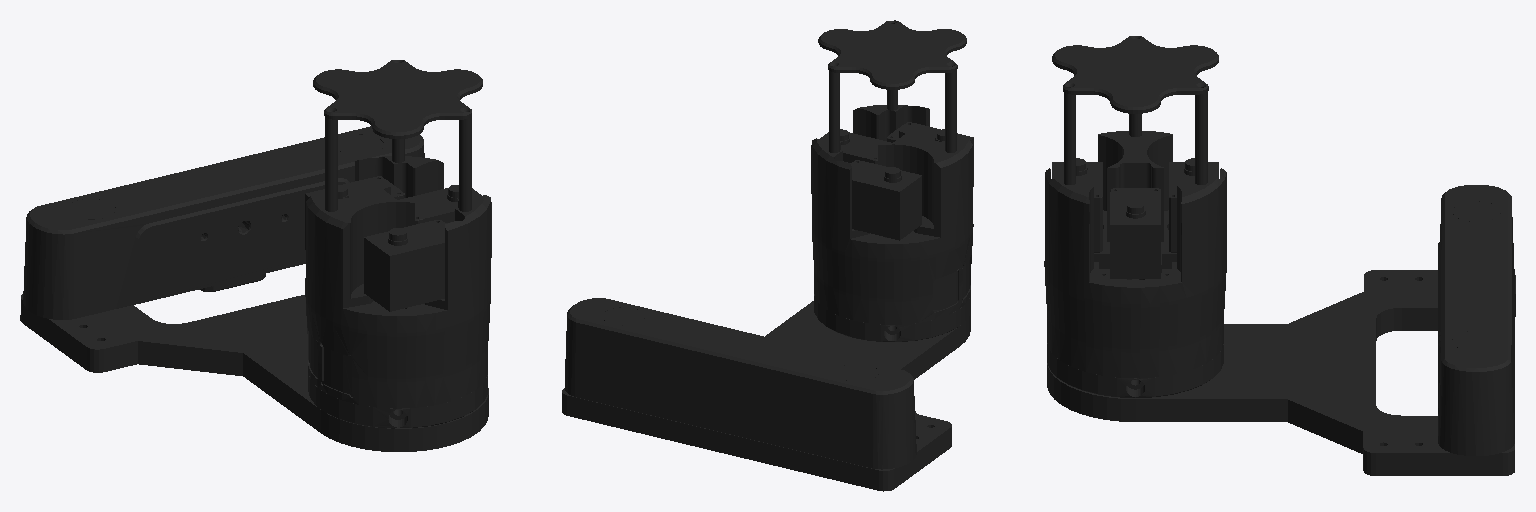
robot.urdf — delto_gripper_3f:
<?xml version="1.0" ?>

<!--
    delto_gripper_3f.sdf
    Licensed under the BSD-3-Clause
    Copyright (c) 2025 Tesollo Inc.
    See LICENSE file for details.
  Reference:
  * https://tesollo.com/dg-3f/
-->

<robot name="delto_gripper_3f">

   <material name="silver">
      <color rgba="0.700 0.700 0.700 1.000"/>
   </material>

   <material name="black">
      <color rgba="0.196 0.196 0.196 1.0"/>
   </material>

   <material name="white">
      <color rgba="1.0 1.0 1.0 1.0"/>
   </material>

   <link name="delto_base_link">

      <inertial>
         <origin xyz="0.00045499721796859983 -2.051648304165415e-06 -0.05218562175888181" rpy="5.671320207730568e-06 0.0032948722942074404 -0.00044870150924543735"/>
         <mass value="0.370"/>
         <inertia ixx="0.0009935903471030175" iyy="0.000980251548061173" izz="0.0003178199035240808" ixy="0" ixz="0" iyz="0"/>
      </inertial>

      <visual>
         <origin xyz="0.00045499721796859983 -2.051648304165415e-06 -0.05218562175888181" rpy="5.671320207730568e-06 0.0032948722942074404 -0.00044870150924543735"/>
         <geometry>
            <mesh filename="package://delto_description/meshes/DG3F/base_link_zed2i_mounted_top_position.stl"/>
         </geometry>
         <material name="black"/>
      </visual>

      <collision>
         <origin xyz="0.00045499721796859983 -2.051648304165415e-06 -0.05218562175888181" rpy="5.671320207730568e-06 0.0032948722942074404 -0.00044870150924543735"/>
         <geometry>
            <mesh filename="package://delto_description/meshes/DG3F/base_link_zed2i_mounted_top_position.stl"/>
         </geometry>
      </collision>

   </link>


   <link name="F1_01">

      <inertial>
         <origin xyz="0.0003906 3.121e-08 -0.014" rpy= "-0.17662368646091148 -1.9303231388878572e-06 1.5707855116626381"/>
         <mass value="0.061"/>
         <inertia ixx="1.924000000025899e-05" iyy="1.709411627342488e-05" izz="5.9478837263161295e-06" ixy="0" ixz="0" iyz="0"/>
      </inertial>

      <visual>
         <origin xyz="0.0018977016221143523 -1.0017682763976983e-06 -0.022983822146236326" rpy="-0.1443920950720977 1.9855029389503898e-05 1.5709191233325221"/>
         <geometry>
            <mesh filename="package://delto_description/meshes/DG3F/link_01.stl"/>
         </geometry>
         <material name="black"/>
      </visual>
      
      <collision>
         <origin xyz="0.0018977016221143523 -1.0017682763976983e-06 -0.022983822146236326" rpy="-0.1443920950720977 1.9855029389503898e-05 1.5709191233325221"/>
         <geometry>
            <mesh filename="package://delto_description/meshes/DG3F/link_01.stl"/>
         </geometry>
      </collision> 

   </link>

   <link name="F1_02">

      <inertial>
         <origin xyz="0.01 3.444e-06 0.016" rpy="-0.0036890516412144943 0.31688564121750695 -0.0027736178951144786"/>
         <mass value="0.025"/>
         <inertia ixx="7.164797732610912e-06" iyy="6.31301833122199e-06" izz="3.274183936167101e-06" ixy="0" ixz="0" iyz="0"/>
      </inertial>

      <visual>
         <origin xyz="0.010322007813576017 0.000267674195662055 0.013590600703218703" rpy="-0.03118104794815292 0.3757385725887219 -0.024334342208719002"/>
         <geometry>
            <mesh filename="package://delto_description/meshes/DG3F/link_02.stl"/>
         </geometry>
         <material name="black"/>
      </visual>

      <collision>
         <origin xyz="0.010322007813576017 0.000267674195662055 0.013590600703218703" rpy="-0.03118104794815292 0.3757385725887219 -0.024334342208719002"/>
         <geometry>
            <mesh filename="package://delto_description/meshes/DG3F/link_02.stl"/>
         </geometry>
      </collision>
   </link>

   <link name="F1_03">

      <inertial>
         <origin xyz="0.014 -0.0004527 -3.953e-05" rpy="1.5651066808062148 -0.0008576993469346927 1.5562600280492769"/>
         <mass value="0.051"/>
         <inertia ixx="1.6912201686125405e-05" iyy="1.4940271596370447e-05" izz="6.505526717504149e-06" ixy="0" ixz="0" iyz="0"/>
      </inertial>

      <visual>
         <origin xyz="0.019034639558839914 -0.0007611783816217545 0.00015734818842133856" rpy="1.5405533073968862 -0.0023628127138719535 1.5994547590929262"/>
         <geometry>
            <mesh filename="package://delto_description/meshes/DG3F/link_03.stl"/>
         </geometry>
         <material name="black"/>
      </visual>

      <collision>
         <origin xyz="0.019034639558839914 -0.0007611783816217545 0.00015734818842133856" rpy="1.5405533073968862 -0.0023628127138719535 1.5994547590929262"/>
         <geometry>
            <mesh filename="package://delto_description/meshes/DG3F/link_03.stl"/>
         </geometry>
      </collision>

   </link>

   <link name="F1_04">
      <inertial>
         <origin xyz="0.012 -0.0002269 -4.676e-05" rpy="1.5668480451228681 -0.0008686188531681349 1.5829731507939977"/>
         <mass value="0.058"/>
         <inertia ixx="1.0860820276783573e-05" iyy="9.902070548178027e-06" izz="5.330109175038405e-06" ixy="0" ixz="0" iyz="0"/>
      </inertial>

      <visual>
         <origin xyz="0.011992289866897352 -0.0007726988011287212 -5.201111709052532e-06" rpy="1.5745317514920234 0.003601150001683928 1.6650413701206925"/>
         <geometry>
            <mesh filename="package://delto_description/meshes/DG3F/link_04.stl"/>
         </geometry>
         <material name="black"/>
      </visual>

      <collision>
         <origin xyz="0.011992289866897352 -0.0007726988011287212 -5.201111709052532e-06" rpy="1.5745317514920234 0.003601150001683928 1.6650413701206925"/>
         <geometry>
            <mesh filename="package://delto_description/meshes/DG3F/link_04.stl"/>
         </geometry>
      </collision>

   </link>

   <link name="F1_TIP">
      <inertial>
         <origin xyz="0.045 -0.000436 -7.22e-08" rpy="1.5708008179564292 -3.695361794919805e-05 1.5210948927815267"/>
         <mass value="0.013"/>
         <inertia ixx="1.5965708653714455e-06" iyy="1.2999999996018677e-06" izz="9.60129135026688e-07" ixy="0" ixz="0" iyz="0"/>
      </inertial>

      <visual>
         <origin xyz="0.044959448417087294 -0.0004226309811080281 2.3018946871860735e-07" rpy="1.5708745579876908 -1.019986385419891e-05 1.5204133624130758"/>
         <geometry>
            <mesh filename="package://delto_description/meshes/DG3F/link_tip_high.stl"/>
         </geometry>
         <material name="white"/>
      </visual>

      <collision>
         <origin xyz="0.044959448417087294 -0.0004226309811080281 2.3018946871860735e-07" rpy="1.5708745579876908 -1.019986385419891e-05 1.5204133624130758"/>
         <geometry>
            <mesh filename="package://delto_description/meshes/DG3F/link_tip_high.stl"/>
         </geometry>
      </collision>
   </link>

   <link name="F2_01">
      <inertial>
         <origin xyz="0.0003906 3.121e-08 -0.014" rpy="-0.17662368646091148 -1.9303231388878572e-06 1.5707855116626381"/>
         <mass value="0.061"/>
         <inertia ixx="1.924000000025899e-05" iyy="1.709411627342488e-05" izz="5.9478837263161295e-06" ixy="0" ixz="0" iyz="0"/>
      </inertial>

      <visual>
         <origin xyz="0.0018977016221143523 -1.0017682763976983e-06 -0.022983822146236326" rpy="-0.1443920950720977 1.9855029389503898e-05 1.5709191233325221"/>
         <geometry>
            <mesh filename="package://delto_description/meshes/DG3F/link_01.stl"/>
         </geometry>
         <material name="black"/>
      </visual>

      <collision>
         <origin xyz="0.0018977016221143523 -1.0017682763976983e-06 -0.022983822146236326" rpy="-0.1443920950720977 1.9855029389503898e-05 1.5709191233325221"/>
         <geometry>
            <mesh filename="package://delto_description/meshes/DG3F/link_01.stl"/>
         </geometry>
      </collision>

   </link>

   <link name="F2_02">
      <inertial>
         <origin xyz="0.01 3.444e-06 0.016" rpy="-0.0036890516412144943 0.31688564121750695 -0.0027736178951144786"/>
         <mass value="0.025"/>
         <inertia ixx="7.164797732610912e-06" iyy="6.31301833122199e-06" izz="3.274183936167101e-06" ixy="0" ixz="0" iyz="0"/>
      </inertial>

      <visual>
         <origin xyz="0.010322007813576017 0.000267674195662055 0.013590600703218703" rpy="-0.03118104794815292 0.3757385725887219 -0.024334342208719002"/>
         <geometry>
            <mesh filename="package://delto_description/meshes/DG3F/link_02.stl"/>
         </geometry>
         <material name="black"/>
      </visual>

      <collision>
         <origin xyz="0.010322007813576017 0.000267674195662055 0.013590600703218703" rpy="-0.03118104794815292 0.3757385725887219 -0.024334342208719002"/>
         <geometry>
            <mesh filename="package://delto_description/meshes/DG3F/link_02.stl"/>
         </geometry>
      </collision>

   </link>

   <link name="F2_03">
   
      <inertial>
         <origin xyz="0.014 -0.0004527 -3.953e-05" rpy="1.5651066808062148 -0.0008576993469346927 1.5562600280492769"/>
         <mass value="0.051"/>
         <inertia ixx="1.6912201686125405e-05" iyy="1.4940271596370447e-05" izz="6.505526717504149e-06" ixy="0" ixz="0" iyz="0"/>
      </inertial>

      <visual>
         <origin xyz="0.019034639558839914 -0.0007611783816217545 0.00015734818842133856" rpy="1.5405533073968862 -0.0023628127138719535 1.5994547590929262"/>
         <geometry>
            <mesh filename="package://delto_description/meshes/DG3F/link_03.stl"/>
         </geometry>
         <material name="black"/>
      </visual>


      <collision>
         <origin xyz="0.019034639558839914 -0.0007611783816217545 0.00015734818842133856" rpy="1.5405533073968862 -0.0023628127138719535 1.5994547590929262"/>
         <geometry>
            <mesh filename="package://delto_description/meshes/DG3F/link_03.stl"/>
         </geometry>
      </collision>

   </link>

   <link name="F2_04">
      <inertial>
         <origin xyz="0.012 -0.0002269 -4.676e-05" rpy="1.5668480451228681 -0.0008686188531681349 1.5829731507939977"/>
         <mass value="0.058"/>
         <inertia ixx="1.0860820276783573e-05" iyy="9.902070548178027e-06" izz="5.330109175038405e-06" ixy="0" ixz="0" iyz="0"/>
      </inertial>

      <visual>
         <origin xyz="0.011992289866897352 -0.0007726988011287212 -5.201111709052532e-06" rpy="1.5745317514920234 0.003601150001683928 1.6650413701206925"/>
         <geometry>
            <mesh filename="package://delto_description/meshes/DG3F/link_04.stl"/>
         </geometry>
         <material name="black"/>
      </visual>

      <collision>
         <origin xyz="0.011992289866897352 -0.0007726988011287212 -5.201111709052532e-06" rpy="1.5745317514920234 0.003601150001683928 1.6650413701206925"/>
         <geometry>
            <mesh filename="package://delto_description/meshes/DG3F/link_04.stl"/>
         </geometry>
      </collision>
   </link>


   <link name="F2_TIP">
      <inertial>
         <origin xyz="0.045 -0.000436 -7.22e-08" rpy="1.5708008179564292 -3.695361794919805e-05 1.5210948927815267"/>
         <mass value="0.013"/>
         <inertia ixx="1.5965708653714455e-06" iyy="1.2999999996018677e-06" izz="9.60129135026688e-07" ixy="0" ixz="0" iyz="0"/>
      </inertial>

      <visual>
         <origin xyz="0.044959448417087294 -0.0004226309811080281 2.3018946871860735e-07" rpy="1.5708745579876908 -1.019986385419891e-05 1.5204133624130758"/>
         <geometry>
            <mesh filename="package://delto_description/meshes/DG3F/link_tip_high.stl"/>
         </geometry>
         <material name="white"/>
      </visual>

      <collision>
      <origin xyz="0.044959448417087294 -0.0004226309811080281 2.3018946871860735e-07" rpy="1.5708745579876908 -1.019986385419891e-05 1.5204133624130758"/>
         <geometry>
            <mesh filename="package://delto_description/meshes/DG3F/link_tip_high.stl"/>
         </geometry>
      </collision>
   </link>

   <link name="F3_01">
      <inertial>
         <origin xyz="0.0003906 3.121e-08 -0.014" rpy="-0.17662368646091148 -1.9303231388878572e-06 1.5707855116626381"/>
         <mass value="0.061"/>
         <inertia ixx="1.924000000025899e-05" iyy="1.709411627342488e-05" izz="5.9478837263161295e-06" ixy="0" ixz="0" iyz="0"/>
      </inertial>

      <visual>
         <origin xyz="0.0018977016221143523 -1.0017682763976983e-06 -0.022983822146236326" rpy="-0.1443920950720977 1.9855029389503898e-05 1.5709191233325221"/>
         <geometry>
            <mesh filename="package://delto_description/meshes/DG3F/link_01.stl"/>
         </geometry>
         <material name="black"/>
      </visual>

      <collision>
      <origin xyz="0.0018977016221143523 -1.0017682763976983e-06 -0.022983822146236326" rpy="-0.1443920950720977 1.9855029389503898e-05 1.5709191233325221"/>
         <geometry>
            <mesh filename="package://delto_description/meshes/DG3F/link_01.stl"/>
         </geometry>
      </collision>
   </link>
   
   <link name="F3_02">
      <inertial>
         <origin xyz="0.01 3.444e-06 0.016" rpy="-0.0036890516412144943 0.31688564121750695 -0.0027736178951144786"/>
         <mass value="0.025"/>
         <inertia ixx="7.164797732610912e-06" iyy="6.31301833122199e-06" izz="3.274183936167101e-06" ixy="0" ixz="0" iyz="0"/>
      </inertial>
      <visual>
         <origin xyz="0.010322007813576017 0.000267674195662055 0.013590600703218703" rpy="-0.03118104794815292 0.3757385725887219 -0.024334342208719002"/>
         <geometry>
            <mesh filename="package://delto_description/meshes/DG3F/link_02.stl"/>
         </geometry>
         <material name="black"/>
      </visual>

      <collision>
         <origin xyz="0.010322007813576017 0.000267674195662055 0.013590600703218703" rpy="-0.03118104794815292 0.3757385725887219 -0.024334342208719002"/>
         <geometry>
            <mesh filename="package://delto_description/meshes/DG3F/link_02.stl"/>
         </geometry>
      </collision>

   </link>

   <link name="F3_03">
      <inertial>
         <origin xyz="0.014 -0.0004527 -3.953e-05" rpy="1.5651066808062148 -0.0008576993469346927 1.5562600280492769"/>
         <mass value="0.051"/>
         <inertia ixx="1.6912201686125405e-05" iyy="1.4940271596370447e-05" izz="6.505526717504149e-06" ixy="0" ixz="0" iyz="0"/>
      </inertial>
      <visual>
         <origin xyz="0.019034639558839914 -0.0007611783816217545 0.00015734818842133856" rpy="1.5405533073968862 -0.0023628127138719535 1.5994547590929262"/>
         <geometry>
            <mesh filename="package://delto_description/meshes/DG3F/link_03.stl"/>
         </geometry>
         <material name="black"/>
      </visual>

      <collision>
         <origin xyz="0.019034639558839914 -0.0007611783816217545 0.00015734818842133856" rpy="1.5405533073968862 -0.0023628127138719535 1.5994547590929262"/>
         <geometry>
            <mesh filename="package://delto_description/meshes/DG3F/link_03.stl"/>
         </geometry>
      </collision>

   </link>

   <link name="F3_04">
      <inertial>
         <origin xyz="0.012 -0.0002269 -4.676e-05" rpy="1.5668480451228681 -0.0008686188531681349 1.5829731507939977"/>
         <mass value="0.058"/>
         <inertia ixx="1.0860820276783573e-05" iyy="9.902070548178027e-06" izz="5.330109175038405e-06" ixy="0" ixz="0" iyz="0"/>
      </inertial>
      <visual>
         <origin xyz="0.011992289866897352 -0.0007726988011287212 -5.201111709052532e-06" rpy="1.5745317514920234 0.003601150001683928 1.6650413701206925"/>
         <geometry>
            <mesh filename="package://delto_description/meshes/DG3F/link_04.stl"/>
         </geometry>
         <material name="black"/>
      </visual>

      <collision>
      <origin xyz="0.011992289866897352 -0.0007726988011287212 -5.201111709052532e-06" rpy="1.5745317514920234 0.003601150001683928 1.6650413701206925"/>
         <geometry>
            <mesh filename="package://delto_description/meshes/DG3F/link_04.stl"/>
         </geometry>
      </collision>

   </link>


   <link name="F3_TIP">
      <inertial>
         <origin xyz="0.045 -0.000436 -7.22e-08" rpy="1.5708008179564292 -3.695361794919805e-05 1.5210948927815267"/>
         <mass value="0.013"/>
         <inertia ixx="1.5965708653714455e-06" iyy="1.2999999996018677e-06" izz="9.60129135026688e-07" ixy="0" ixz="0" iyz="0"/>
      </inertial>
      <visual>
         <origin xyz="0.044959448417087294 -0.0004226309811080281 2.3018946871860735e-07" rpy="1.5708745579876908 -1.019986385419891e-05 1.5204133624130758"/>
         <geometry>
            <mesh filename="package://delto_description/meshes/DG3F/link_tip_high.stl"/>
         </geometry>
         <material name="white"/>
      </visual>

      <collision>
         <origin xyz="0.044959448417087294 -0.0004226309811080281 2.3018946871860735e-07" rpy="1.5708745579876908 -1.019986385419891e-05 1.5204133624130758"/>
         <geometry>
            <mesh filename="package://delto_description/meshes/DG3F/link_tip_high.stl"/>
         </geometry>
      </collision>

   </link>

   <!--Joint -->

   <joint name = "F1M1" type = "revolute">
      <origin xyz="0.0265 0.0 0.0" rpy="0 0 0"/>
      <parent link="delto_base_link"/>
      <child link="F1_01"/>
      <axis xyz="0.0 0.0 1.0"/>
      <limit effort="10.0" velocity="5.0" lower="-1.0472" upper="1.0472" />
      <dynamics damping="1.1" friction="1.1"/>
   </joint>

   <joint name = "F1M2" type = "revolute">
      <origin xyz="0.0 0.0 0.0" rpy="-3.1415926207728213 -1.570796290294655 0.0"/>
      <parent link="F1_01"/>
      <child link="F1_02"/>
      <axis xyz="0.0 0.0 1.0"/>
      <limit effort="10.0" velocity="5.0" lower="-1.76278" upper="1.76278" />
      <dynamics damping="1.1" friction="1.1"/>
   </joint>

   <joint name = "F1M3" type = "revolute">
      <origin xyz="0.02022 0.0 0.03136" rpy="-1.5707963295583207 -1.5707963267948966 0.0"/>
      <parent link="F1_02"/>
      <child link="F1_03"/>
      <axis xyz="0.0 0.0 1.0"/>
      <limit effort="10.0" velocity="5.0" lower="-0.15708" upper="2.53073" />
      <dynamics damping="1.1" friction="1.1"/>
   </joint>

   <joint name = "F1M4" type = "revolute">
      <origin xyz="0.0434 0.0 0.0" rpy="0 0 0"/>
      <parent link="F1_03"/>
      <child link="F1_04"/>
      <axis xyz="0.0 0.0 1.0"/>
      <limit effort="10.0" velocity="5.0" lower="-0.226893" upper="2.02458"/>
      <dynamics damping="1.1" friction="1.1"/>
   </joint>

   <joint name = "TIP1" type="fixed">
      <origin xyz="0.0 0.0 0.0" rpy="0 0 0"/>
      <parent link="F1_04"/>
      <child link="F1_TIP"/>
   </joint>

   <!-- FINGER 2-->

   <joint name = "F2M1" type = "revolute">
      <origin xyz="-0.01334 0.023 0.0" rpy="0 0 -3.14"/>
      <parent link="delto_base_link"/>
      <child link="F2_01"/>
      <axis xyz="0.0 0.0 1.0"/>
      <limit effort="10.0" velocity="5.0" lower="-1.91986" upper="0.139626" />
      <dynamics damping="1.1" friction="1.1"/>
   </joint>

   <joint name = "F2M2" type = "revolute">
      <origin xyz="0.0 0.0 0.0" rpy="-3.14 -1.57 0"/>
      <parent link="F2_01"/>
      <child link="F2_02"/>
      <axis xyz="0.0 0.0 1.0"/>
      <limit effort="10.0" velocity="5.0" lower="-1.76278" upper="1.76278" />
      <dynamics damping="1.1" friction="1.1"/>
   </joint>

   <joint name = "F2M3" type = "revolute">
      <origin xyz="0.02022 0.0 0.03136" rpy="-1.57 -1.57 0"/>
      <parent link="F2_02"/>
      <child link="F2_03"/>
      <axis xyz="0.0 0.0 1.0"/>
      <limit effort="10.0" velocity="5.0" lower="-0.15708" upper="2.53073" />
      <dynamics damping="1.1" friction="1.1"/>
   </joint>

   <joint name = "F2M4" type = "revolute">
      <origin xyz="0.0434 0.0 0.0" rpy="0 0 0"/>
      <parent link="F2_03"/>
      <child link="F2_04"/>
      <axis xyz="0.0434 0.0 1.0"/>
      <limit effort="10.0" velocity="5.0" lower="-0.226893" upper="2.02458" />
      <dynamics damping="1.1" friction="1.1"/>
   </joint>

   <joint name = "TIP2" type="fixed">
      <origin xyz="0.0 0.0 0.0" rpy="0 0 0"/>
      <parent link="F2_04"/>
      <child link="F2_TIP"/>
   </joint>

   <!-- FINGER 3-->   

   <joint name = "F3M1" type = "revolute">
      <origin xyz="-0.01334 -0.023 0.0" rpy="0 0 -3.14"/>
      <parent link="delto_base_link"/>
      <child link="F3_01"/>
      <axis xyz=".0 0.0 1.0"/>
      <limit effort="10.0" velocity="5.0" lower="-0.0872665" upper="2.00713" />
      <dynamics damping="1.1" friction="1.1"/>
   </joint>

   <joint name = "F3M2" type = "revolute">
      <origin xyz="0.0 0.0 0.0" rpy="-3.14 -1.57 0"/>
      <parent link="F3_01"/>
      <child link="F3_02"/>
      <axis xyz="0.0 0.0 1.0"/>
      <limit effort="10.0" velocity="5.0" lower="-1.76278" upper="1.76278" />
      <dynamics damping="1.1" friction="1.1"/>
   </joint>

   <joint name = "F3M3" type = "revolute">
      <origin xyz="0.02022 0.0 0.03136" rpy="-1.57 -1.57 0"/>
      <parent link="F3_02"/>
      <child link="F3_03"/>
      <axis xyz="0.0 0.0 1.0"/>
      <limit effort="10.0" velocity="5.0" lower="-0.15708" upper="2.53073" />
      <dynamics damping="1.1" friction="1.1"/>
   </joint>

   <joint name = "F3M4" type = "revolute">
      <origin xyz="0.0434 0.0 0.0" rpy="0 0 0"/>
      <parent link="F3_03"/>
      <child link="F3_04"/>
      <axis xyz="0.0 0.0 1.0"/>
      <limit effort="10.0" velocity="5.0" lower="-0.226893" upper="2.02458" />
      <dynamics damping="1.1" friction="1.1"/>
   </joint>

   <joint name = "TIP3" type="fixed">
      <origin xyz="0.0 0.0 0.0" rpy="0 0 0"/>
      <parent link="F3_04"/>
      <child link="F3_TIP"/>
   </joint>

</robot>

--- What the picture shows (computed from the rendered views, not written in the file) ---
3 views of the same robot in one strip: view 1: azimuth 30°, elevation 25°; view 2: azimuth 150°, elevation 25°; view 3: azimuth 270°, elevation 25° (orthographic).
Robot: delto_gripper_3f — 16 links, 15 joints (12 revolute, 3 fixed); root link delto_base_link; default pose: all joints at 0.
Visible links, largest first — view 1: delto_base_link; view 2: delto_base_link; view 3: delto_base_link.
Boxes of the visible links, x1=… form: delto_base_link: x1=20, y1=60, x2=491, y2=451; delto_base_link: x1=562, y1=20, x2=973, y2=491; delto_base_link: x1=1044, y1=36, x2=1515, y2=475.
Size in the robot's own frame: 0.1753 by 0.186 by 0.1376 metres.
1 mesh visuals loaded from 6 distinct referenced files (1 binary STL); not drawn: 15 (reference not matched to a file when rendering).